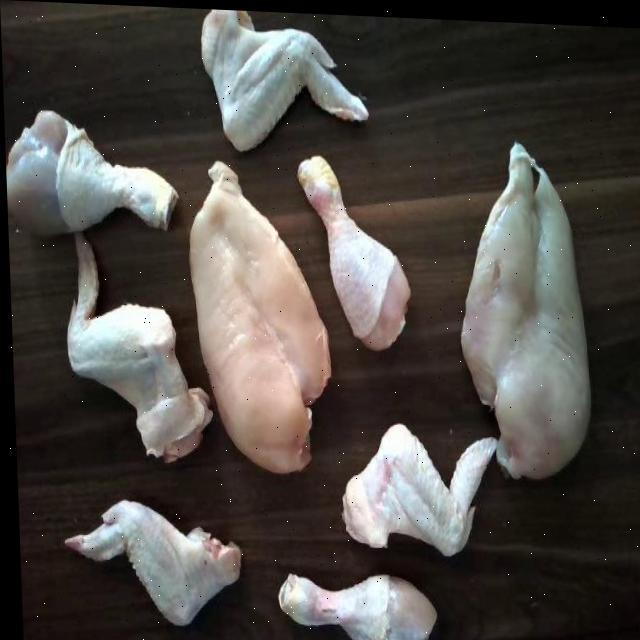breast: (175, 150, 348, 476), (456, 134, 594, 482)
leg: (292, 146, 410, 356), (5, 113, 185, 245), (273, 565, 437, 640)
wing: (61, 236, 212, 469), (176, 6, 370, 151), (323, 413, 500, 555), (74, 494, 240, 621)
